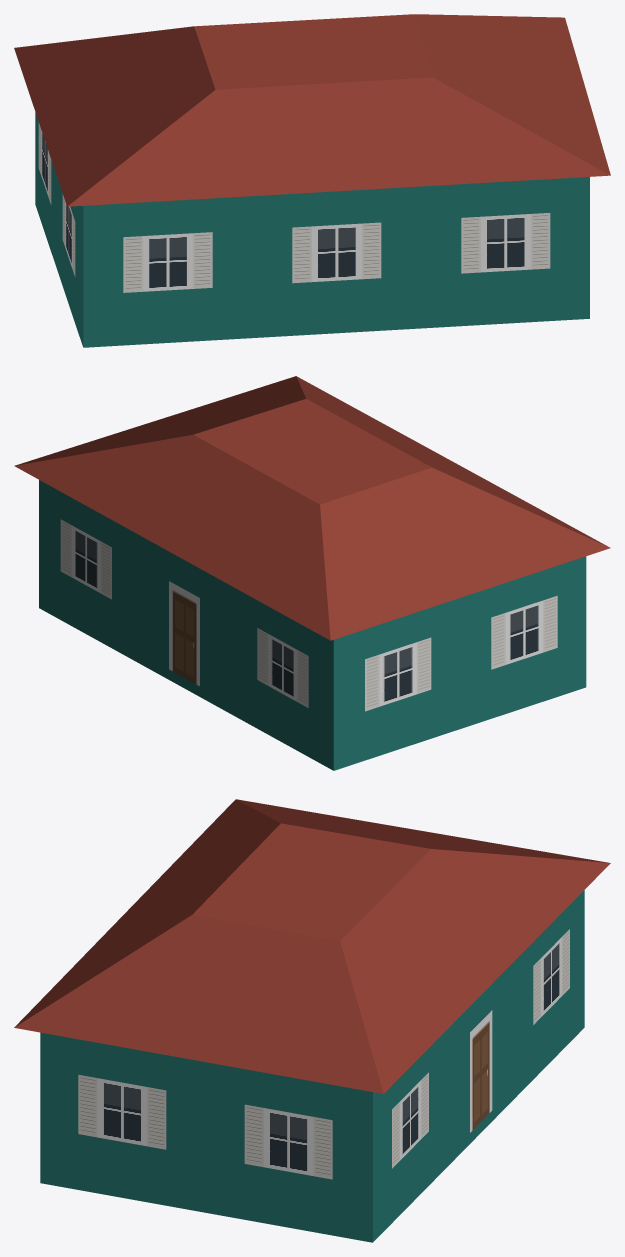
Rendered from msb_palmbeach_m24_m10.glb.
The picture shows the model from 3 angles, top to bottom: view 1: azimuth 30°, elevation 25°; view 2: azimuth 150°, elevation 25°; view 3: azimuth 270°, elevation 25°; orthographic projection. The views are drawn at different scales.
Parts seen in each view (by area): view 1: msb_palmbeach_m24_m10_lod0; view 2: msb_palmbeach_m24_m10_lod0; view 3: msb_palmbeach_m24_m10_lod0.
Boxes of the visible parts, x1,y1,x2,y2 form: msb_palmbeach_m24_m10_lod0: (14,14,610,347); msb_palmbeach_m24_m10_lod0: (14,376,610,770); msb_palmbeach_m24_m10_lod0: (14,799,610,1242).
Size of what is drawn, in the model's own units: 13.85 by 4.9 by 11.84.
Materials: 2 (1 with a texture image).
